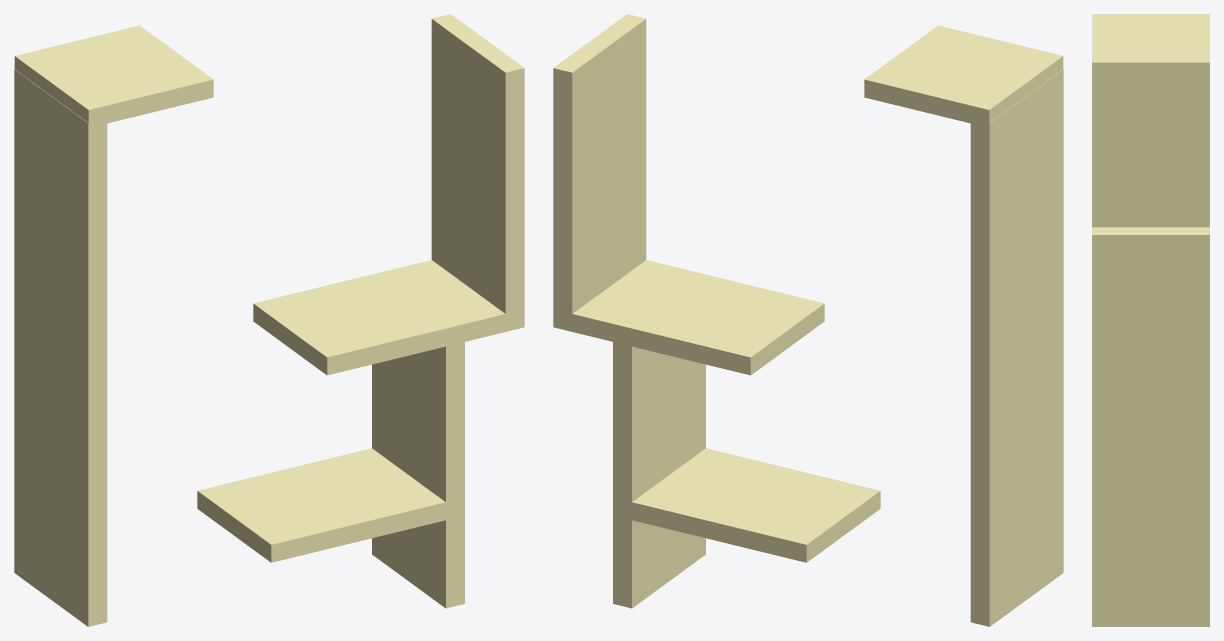
3 views of the same model, side by side, from view 1: azimuth 30°, elevation 25°; view 2: azimuth 150°, elevation 25°; view 3: azimuth 270°, elevation 25° (orthographic). The views are drawn at different scales.
Visible parts, largest first — view 1: Wall__5_, Wall__7_, Wall_8__5_, Wall__9_, Wall_8__4_, Wall_8__6_; view 2: Wall__5_, Wall__7_, Wall_8__5_, Wall__9_, Wall_8__4_, Wall_8__6_; view 3: Wall__7_, Wall__9_, Wall__5_, Wall_8__6_.
Part boxes in pixels (x1=…): Wall__5_: x1=14, y1=69, x2=107, y2=626; Wall__7_: x1=431, y1=14, x2=524, y2=327; Wall_8__5_: x1=253, y1=260, x2=521, y2=375; Wall__9_: x1=372, y1=342, x2=464, y2=608; Wall_8__4_: x1=197, y1=448, x2=460, y2=562; Wall_8__6_: x1=14, y1=25, x2=213, y2=127; Wall__5_: x1=970, y1=69, x2=1063, y2=626; Wall__7_: x1=553, y1=14, x2=646, y2=327; Wall_8__5_: x1=556, y1=260, x2=824, y2=375; Wall__9_: x1=613, y1=342, x2=705, y2=608; Wall_8__4_: x1=617, y1=448, x2=880, y2=562; Wall_8__6_: x1=864, y1=25, x2=1063, y2=127; Wall__7_: x1=1092, y1=227, x2=1209, y2=441; Wall__9_: x1=1092, y1=441, x2=1209, y2=626; Wall__5_: x1=1092, y1=77, x2=1209, y2=227; Wall_8__6_: x1=1092, y1=14, x2=1209, y2=76.
Size of the model in its own units: 365 by 469 by 107.
